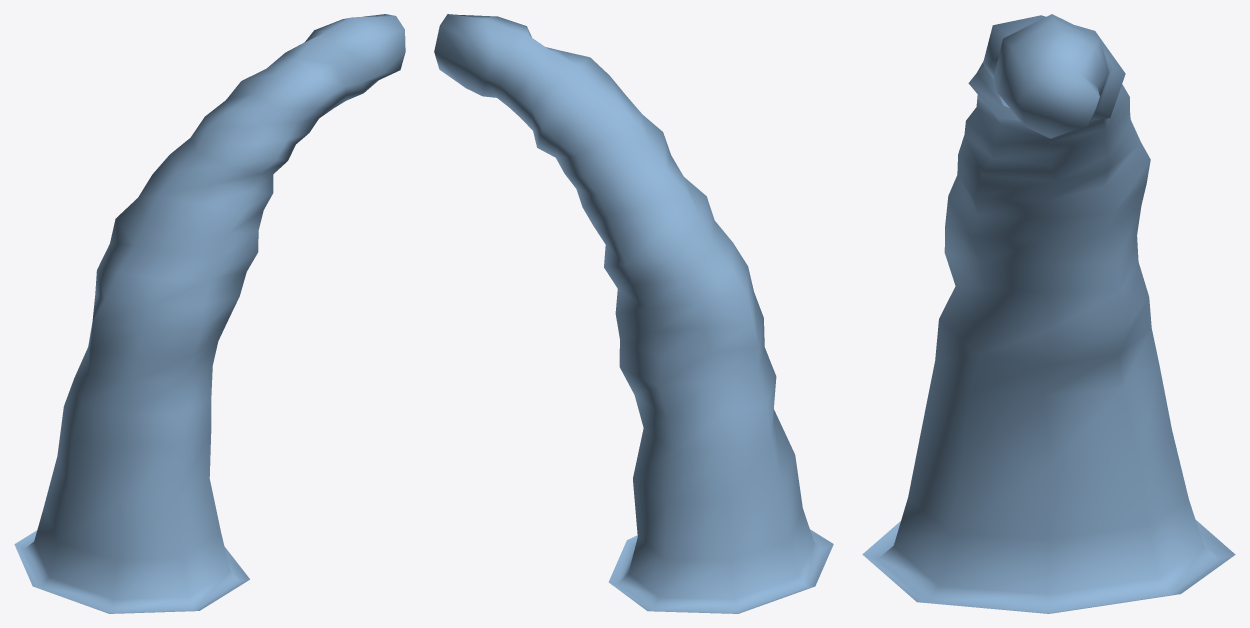
The model's file is pubu_002.FBX.
The picture shows the model from 3 angles, left to right: view 1: azimuth 30°, elevation 25°; view 2: azimuth 150°, elevation 25°; view 3: azimuth 270°, elevation 25°; orthographic projection. The views are drawn at different scales.
Visible parts, largest first — view 1: Fountain A Spray; view 2: Fountain A Spray; view 3: Fountain A Spray.
Part boxes in pixels (x1=…): Fountain A Spray: x1=14, y1=14, x2=405, y2=613; Fountain A Spray: x1=434, y1=14, x2=833, y2=613; Fountain A Spray: x1=862, y1=14, x2=1235, y2=613.
Bounding box in the file's own units: 8.65 × 11.13 × 5.52.
